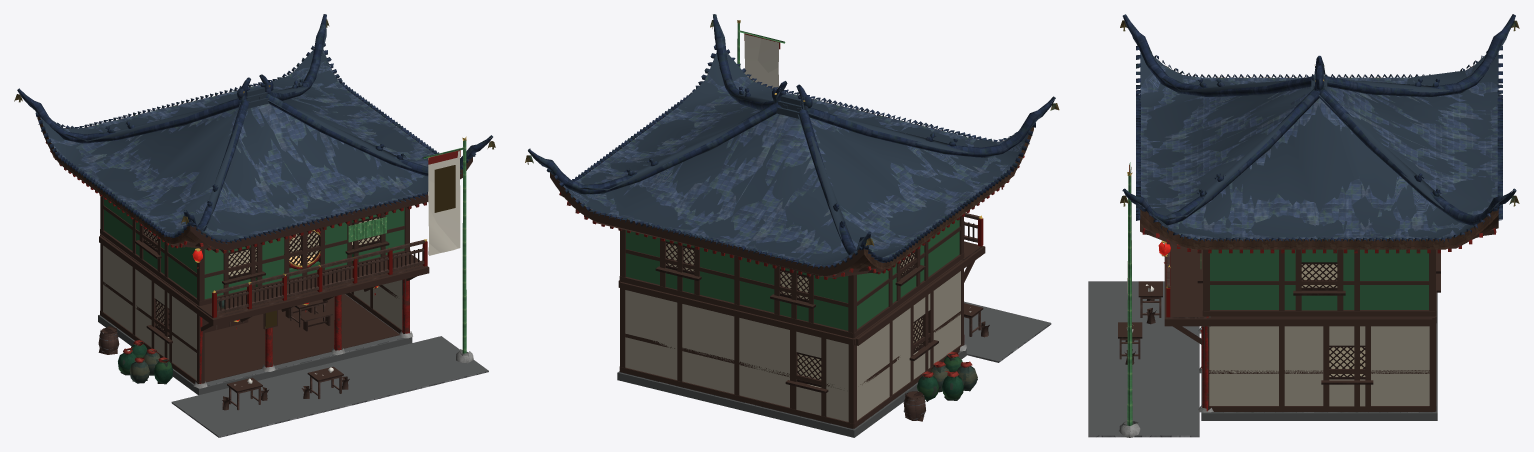
The model's file is prop_tavern.gltf.
3 renders of one model, left to right at view 1: azimuth 30°, elevation 25°; view 2: azimuth 150°, elevation 25°; view 3: azimuth 270°, elevation 25°, orthographic. The views are drawn at different scales.
Visible parts, largest first — view 1: Far, Near; view 2: Far, Near; view 3: Far, Near.
Part boxes in pixels (<box>): Far: <box>19,20,493,436</box>; Near: <box>14,14,495,437</box>; Far: <box>527,14,1055,437</box>; Near: <box>525,14,1059,429</box>; Far: <box>1088,22,1516,435</box>; Near: <box>1088,14,1519,437</box>.
Size of the model in its own units: 12.24 by 9.62 by 12.41.
28 materials, 20 textured.
